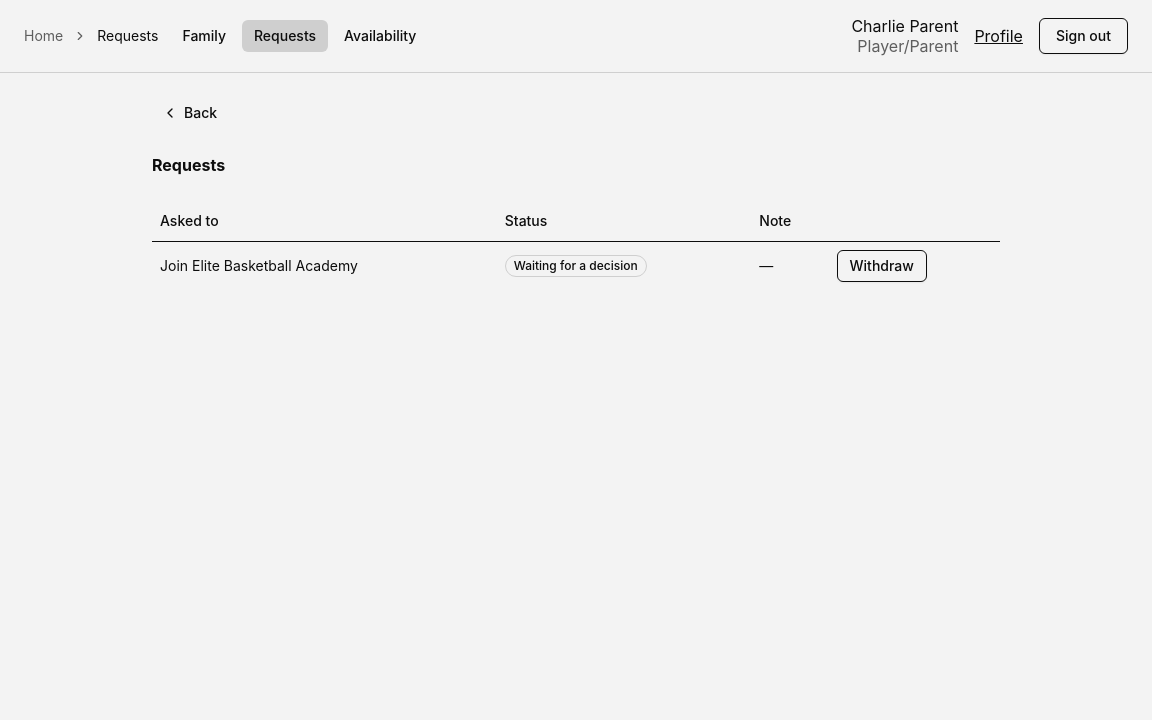
Test: RequestsPage — a child’s own view of what they raised › can withdraw a pending request
Click the button "Withdraw": {"x": 882, "y": 266} [836,250,927,282]
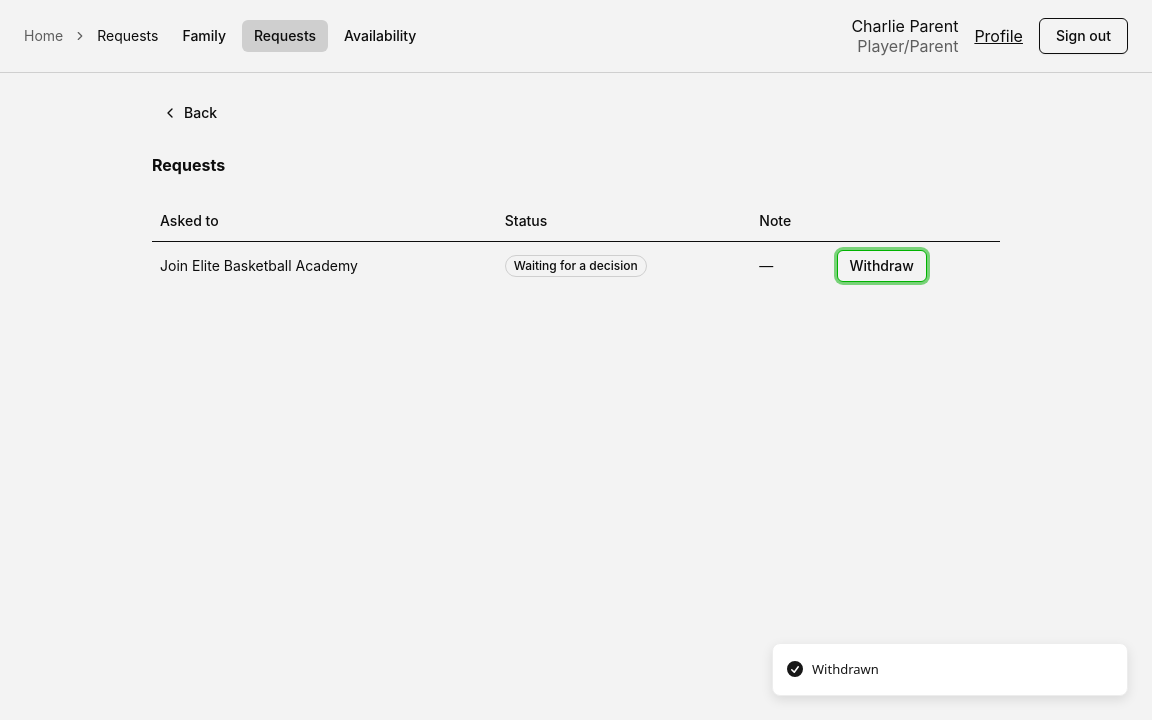
expect the text "Withdrawn" is shown: met, box [812,660,879,679]
